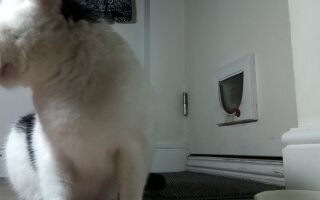bad: (1, 6, 151, 197)
